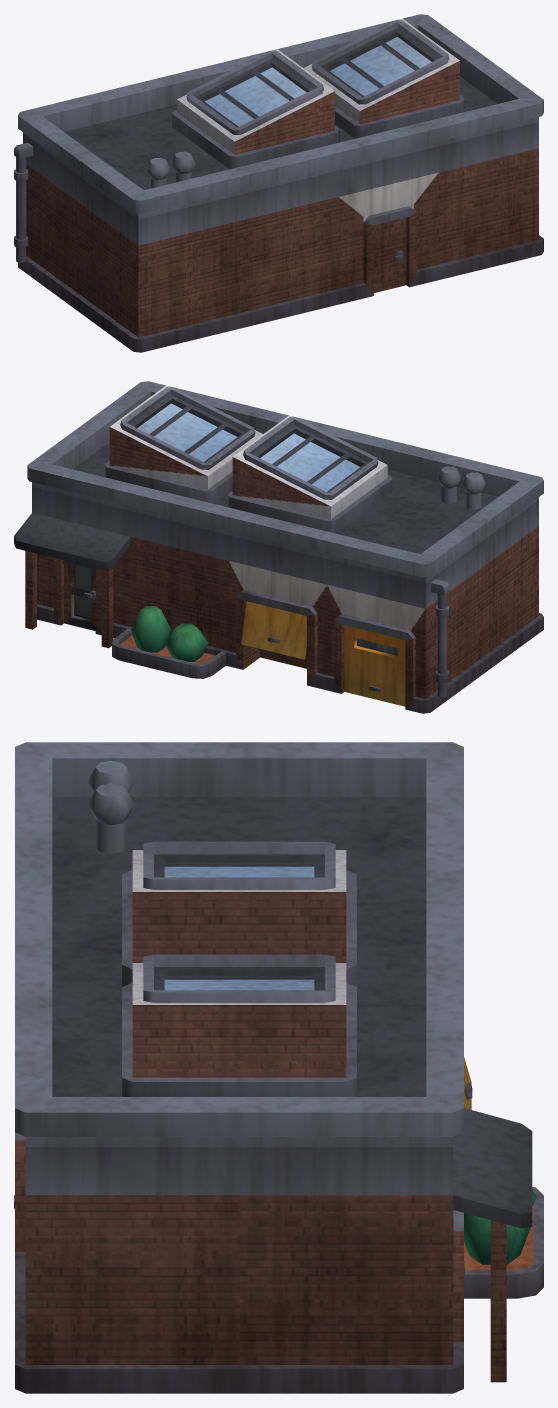
Rendered from building-p-brown.glb.
3 views of the same model, one above another, from view 1: azimuth 30°, elevation 25°; view 2: azimuth 150°, elevation 25°; view 3: azimuth 270°, elevation 25° (orthographic). The views are drawn at different scales.
Parts seen in each view (by area): view 1: building-p; view 2: building-p; view 3: building-p.
Boxes of the visible parts, bbox=[...] form: building-p: bbox=[14, 14, 543, 352]; building-p: bbox=[14, 381, 543, 713]; building-p: bbox=[14, 742, 543, 1393].
Size of the model in its own units: 1.68 by 0.7146 by 0.992.
1 material, 1 textured.
